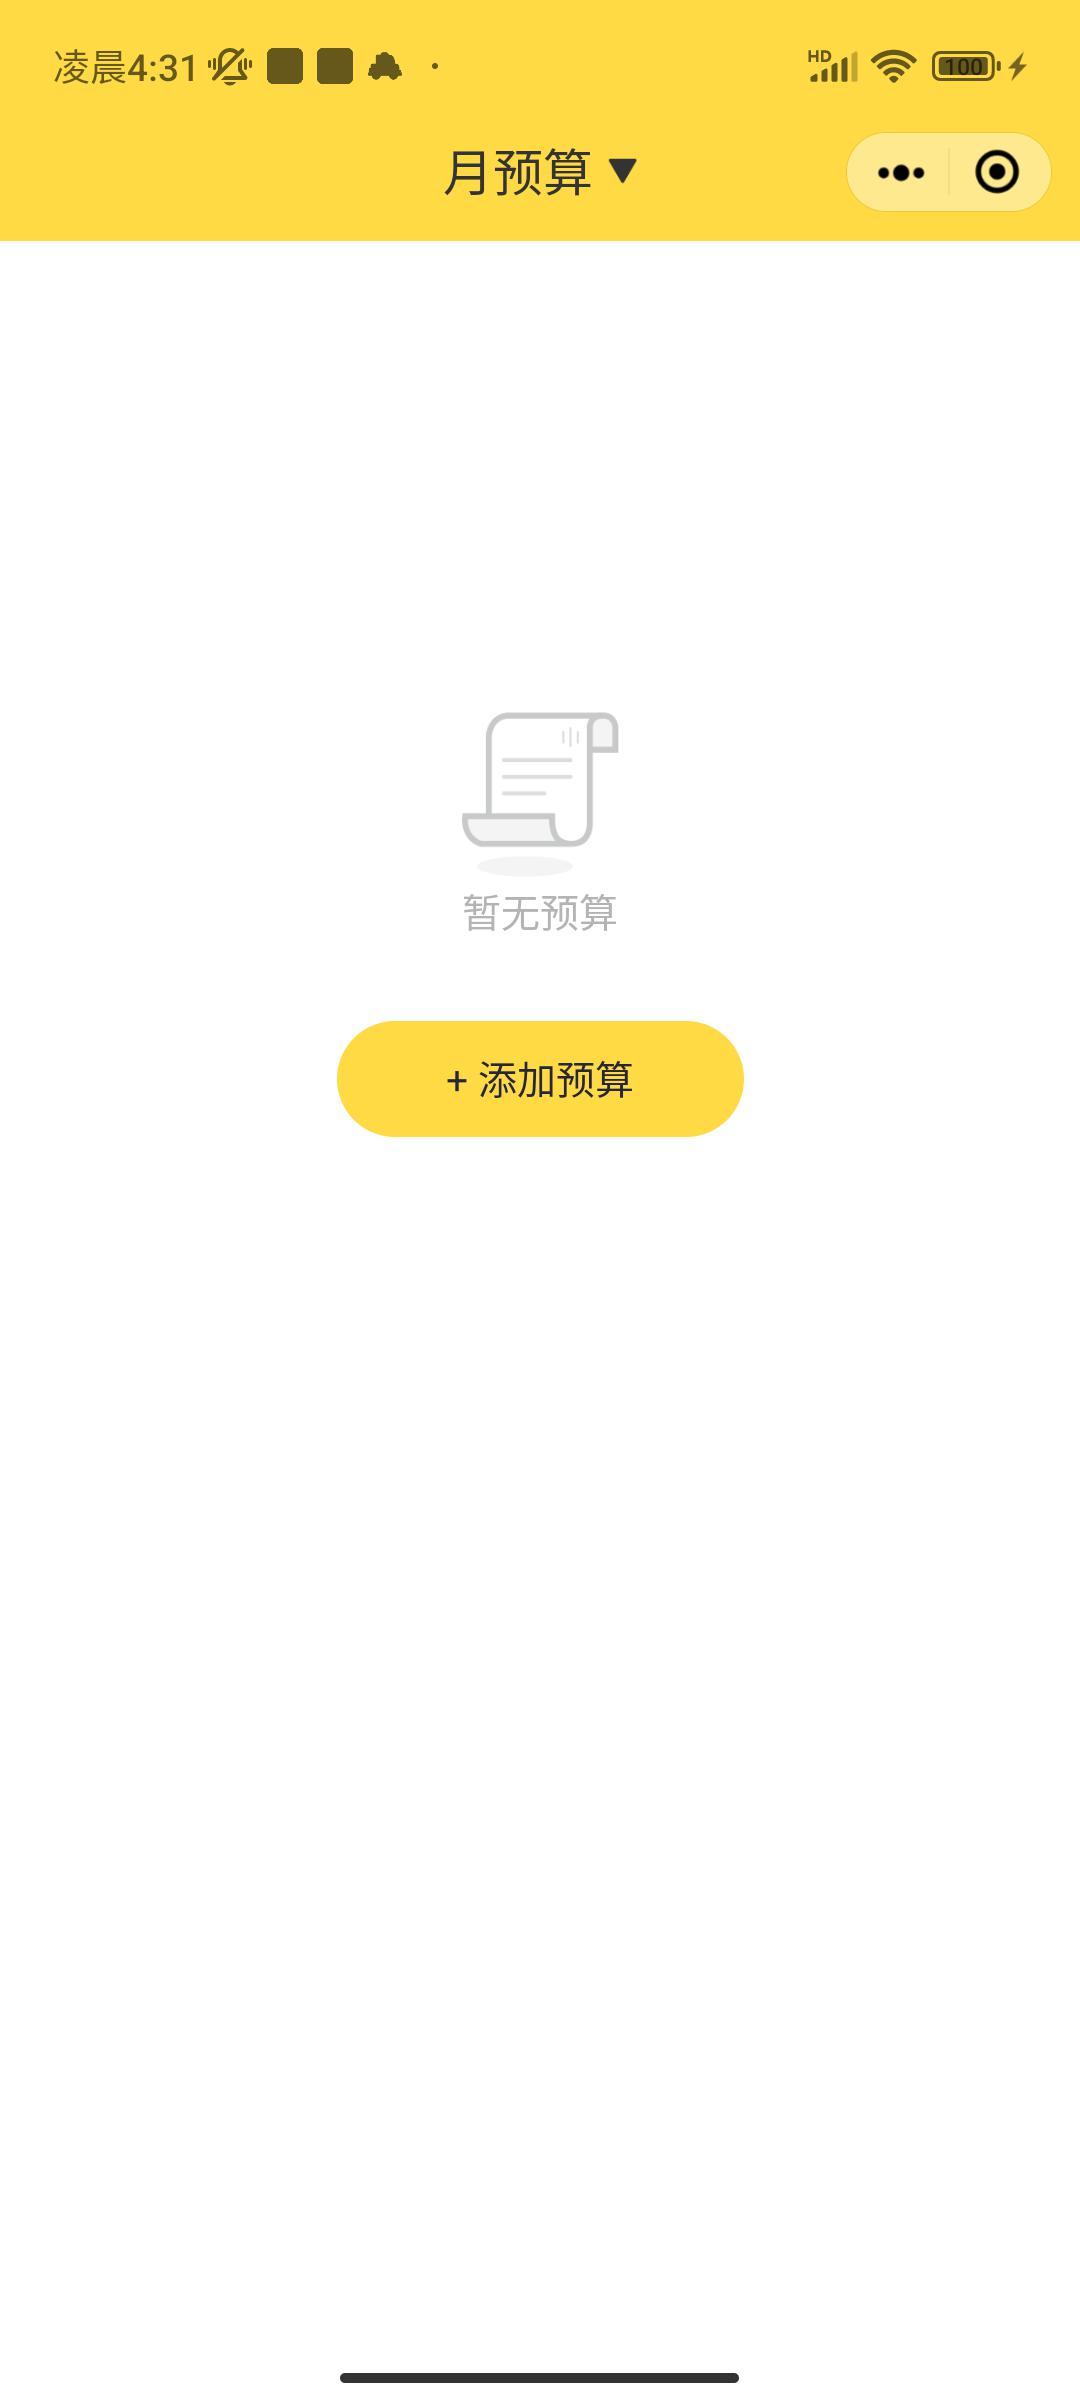ui_group: (314, 673, 773, 1166)
